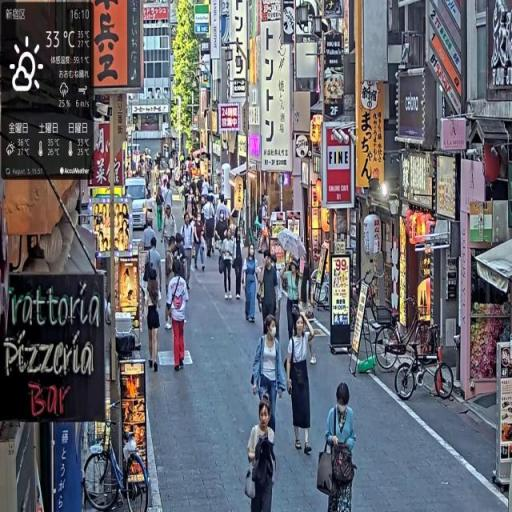person: (319, 379, 359, 512), (251, 314, 290, 439), (287, 314, 318, 455), (246, 398, 278, 512), (167, 257, 191, 373), (146, 263, 162, 373), (243, 241, 261, 328), (181, 214, 196, 288), (221, 229, 236, 300), (203, 196, 217, 260), (233, 228, 244, 300), (163, 206, 177, 250)
